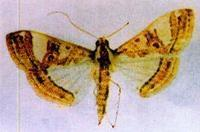pest: (6, 29, 193, 108)
